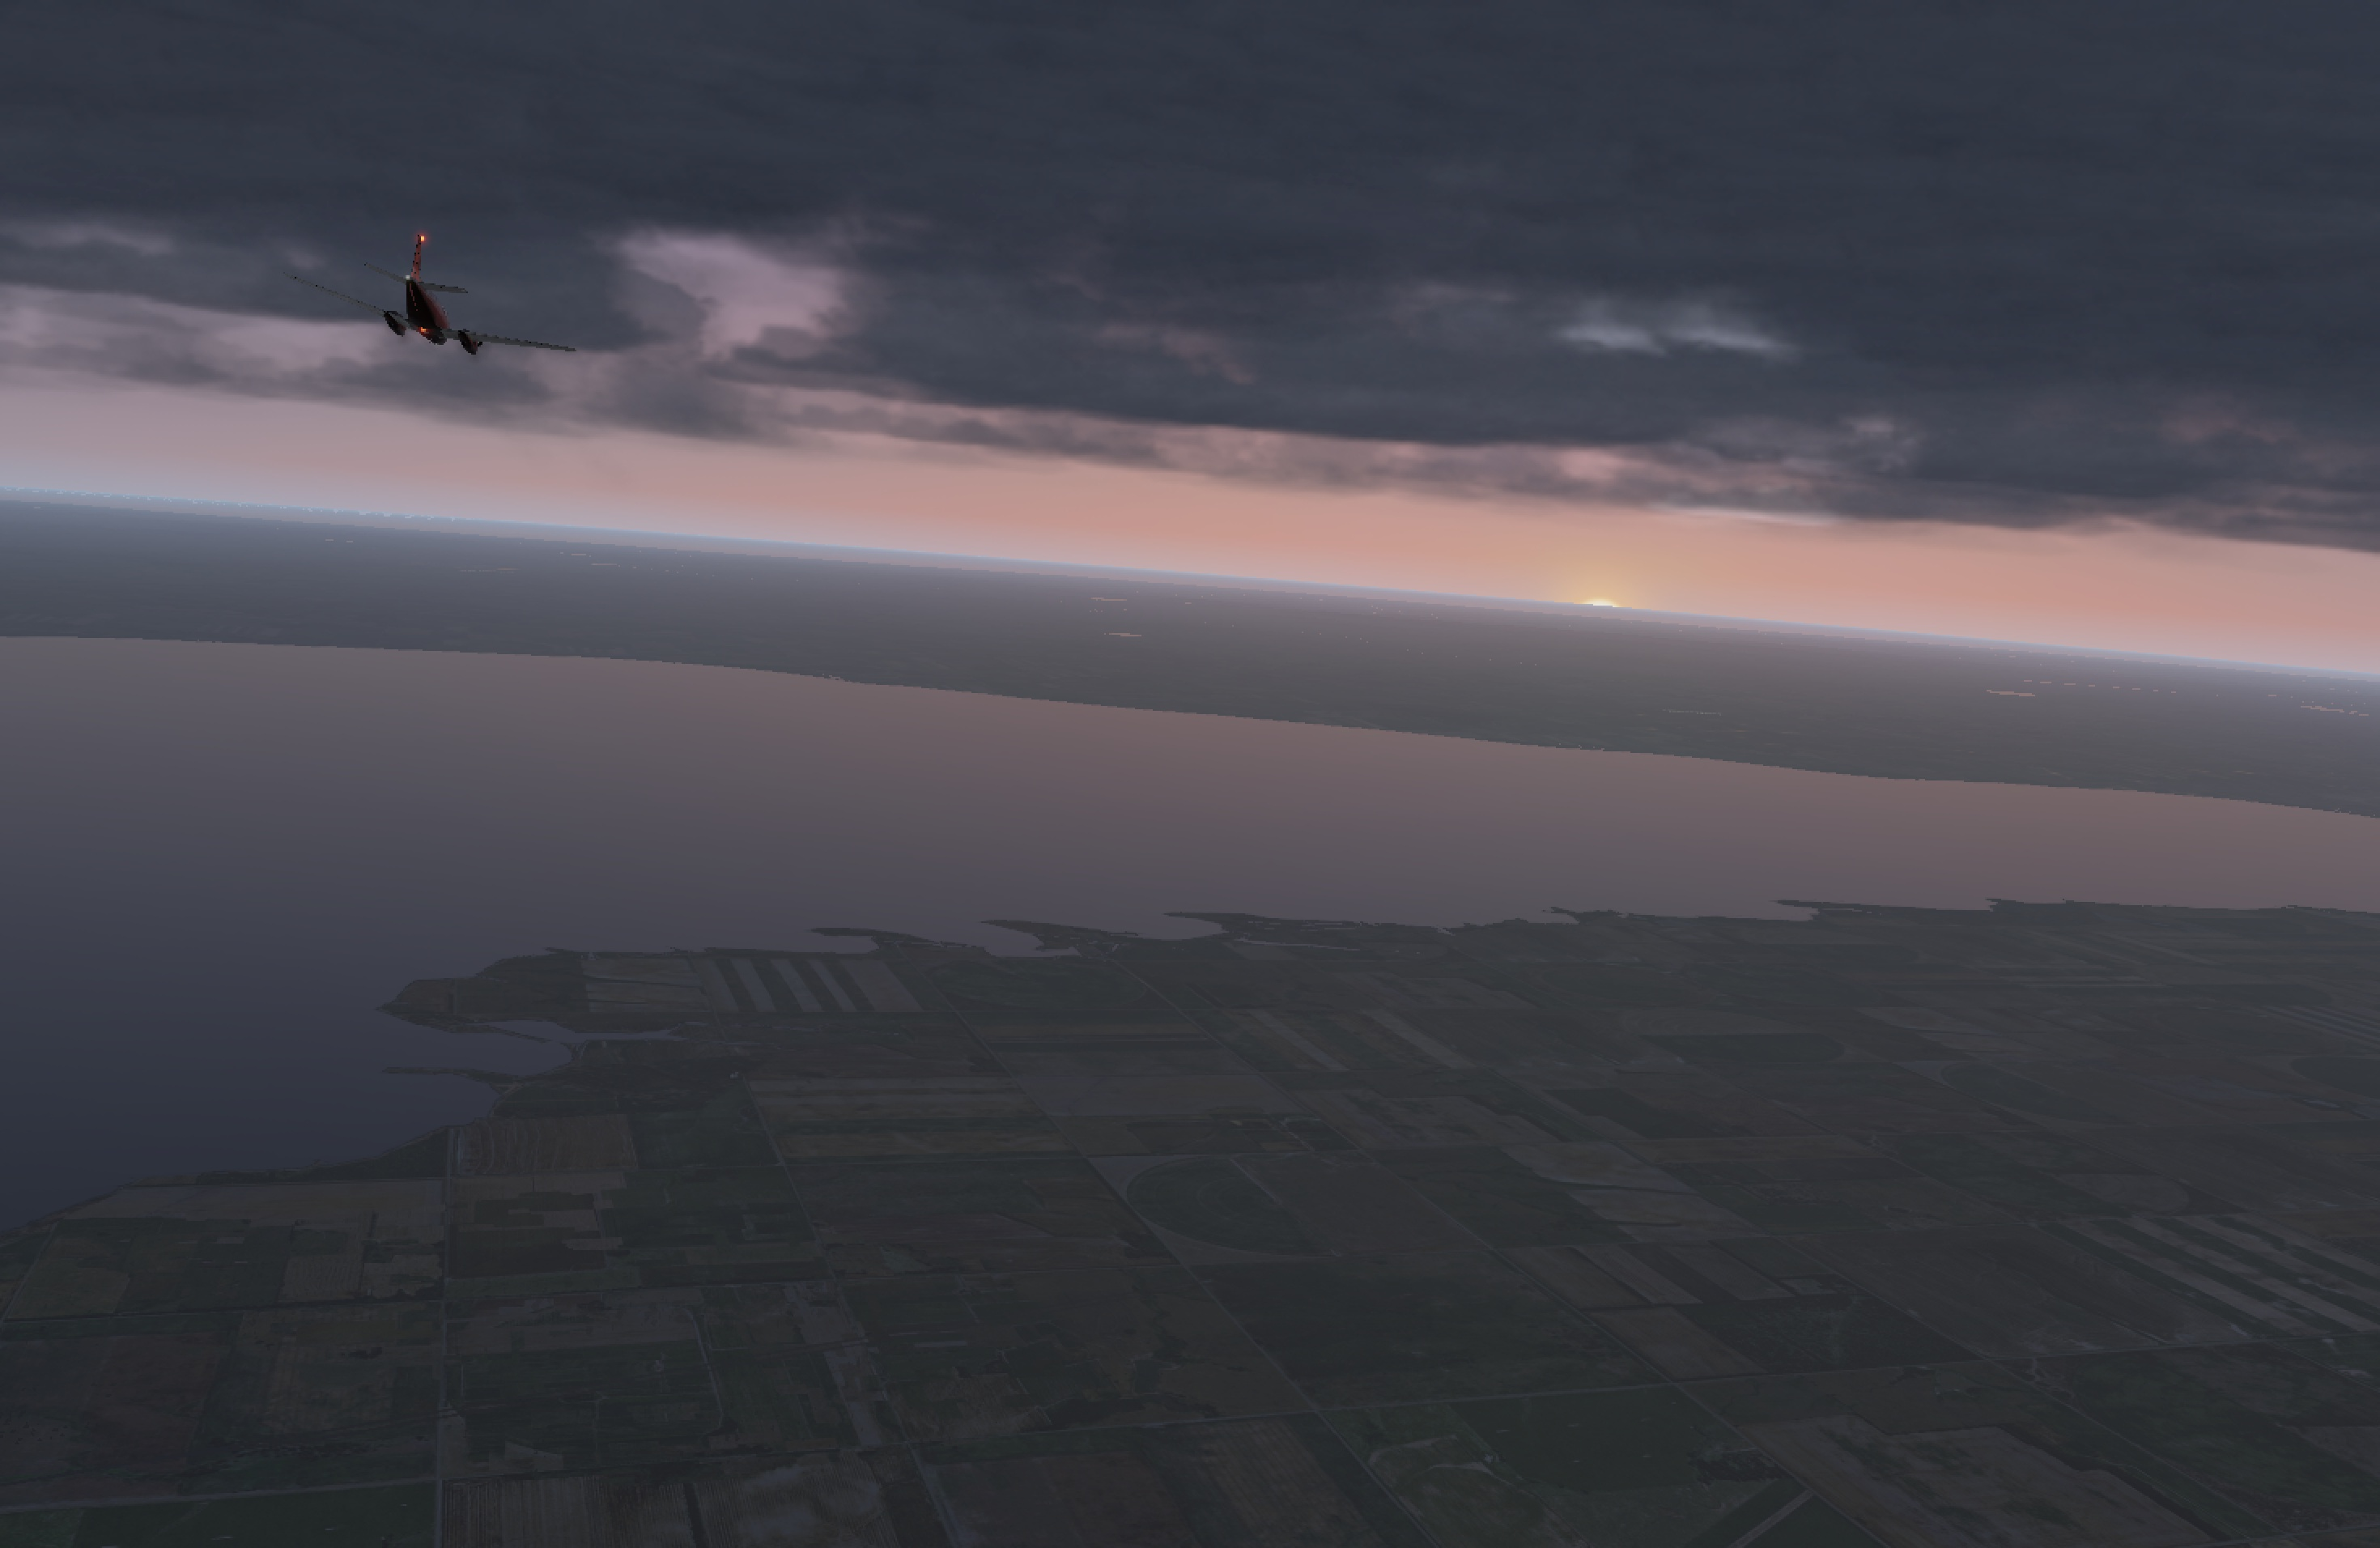aircraft: (297, 283, 560, 382)
